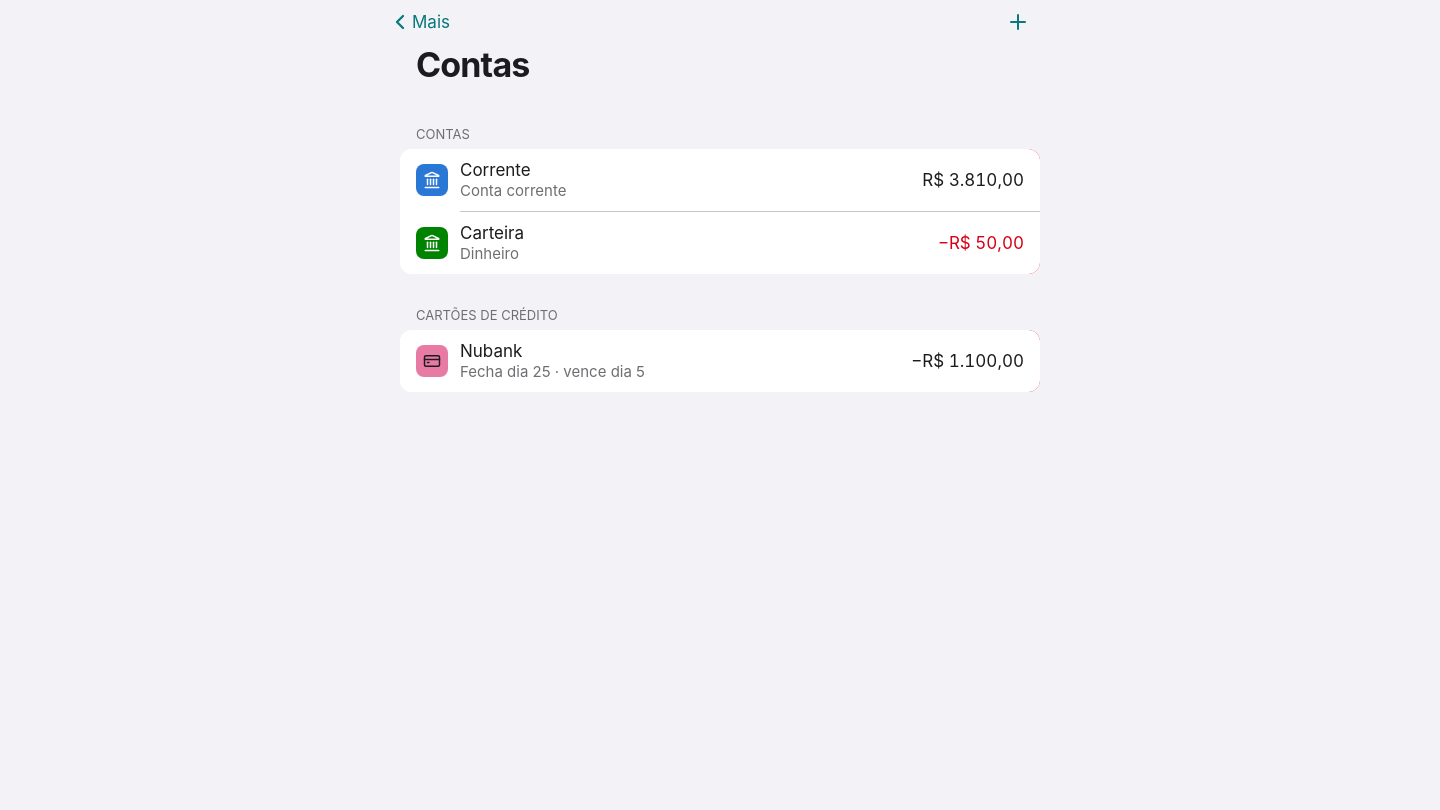
Test: TelaContas › editar abre preenchido; erro do servidor cai embaixo do campo
Click the button "Corrente Conta corrente R$ 3.810,00" at coordinates (432, 180), box x1=400 y1=149 x2=1040 y2=211
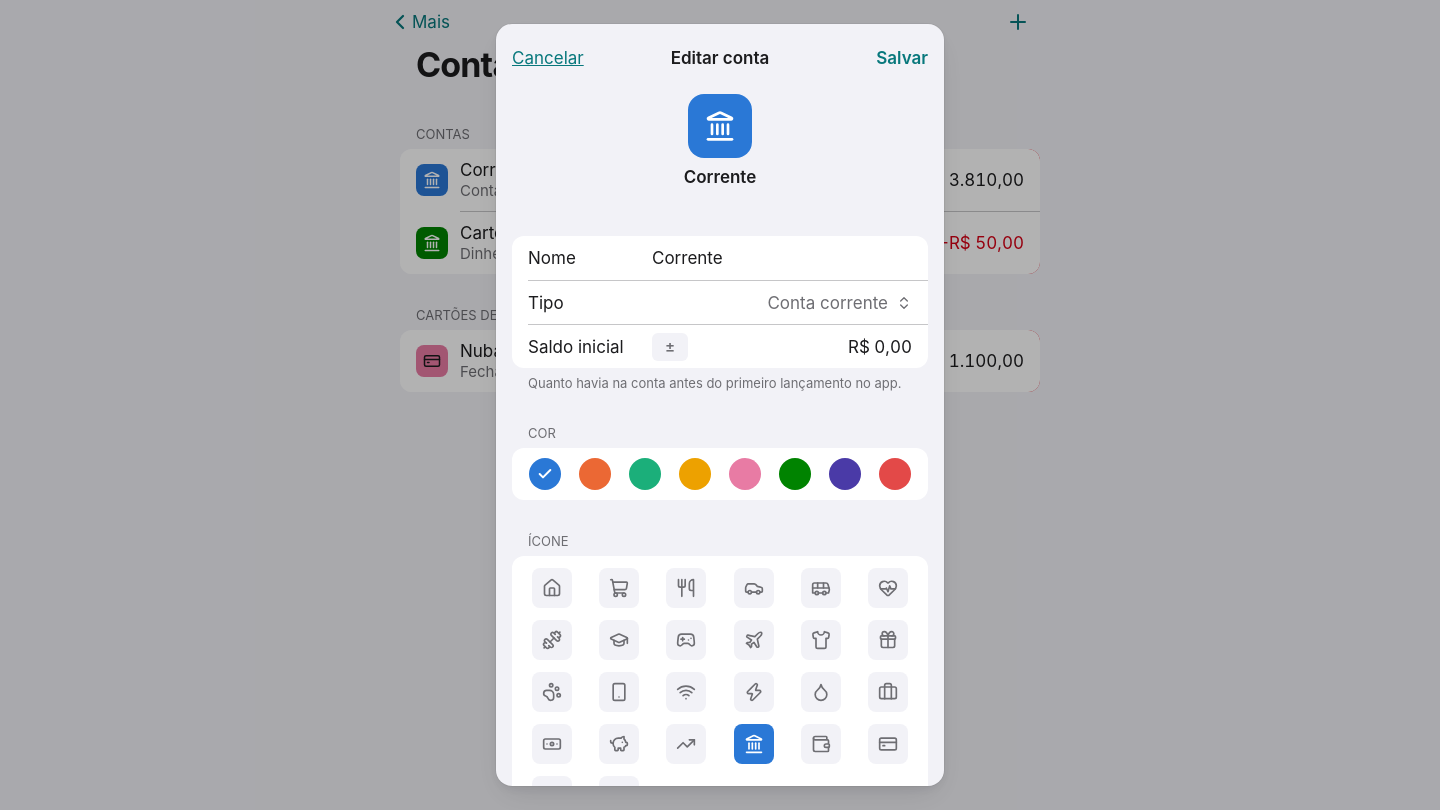
Now the field labelled "Nome" holds "Corrente", box x1=652 y1=237 x2=912 y2=279
Select "Cartão de crédito" in the dropdown labelled "Tipo" at coordinates (782, 302), box x1=652 y1=282 x2=912 y2=324
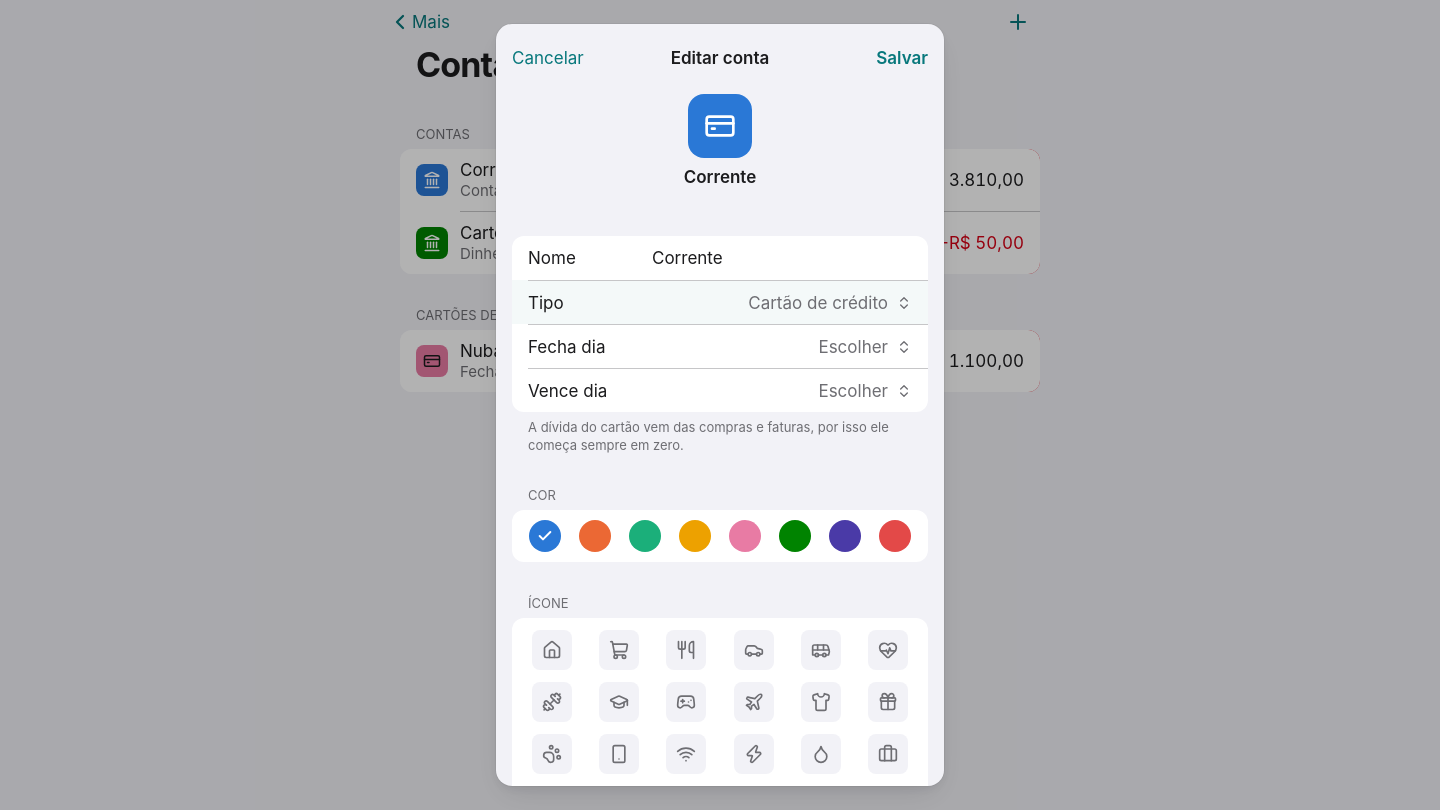
Select "25" in the dropdown labelled "Fecha dia" at coordinates (782, 346), box x1=652 y1=326 x2=912 y2=368
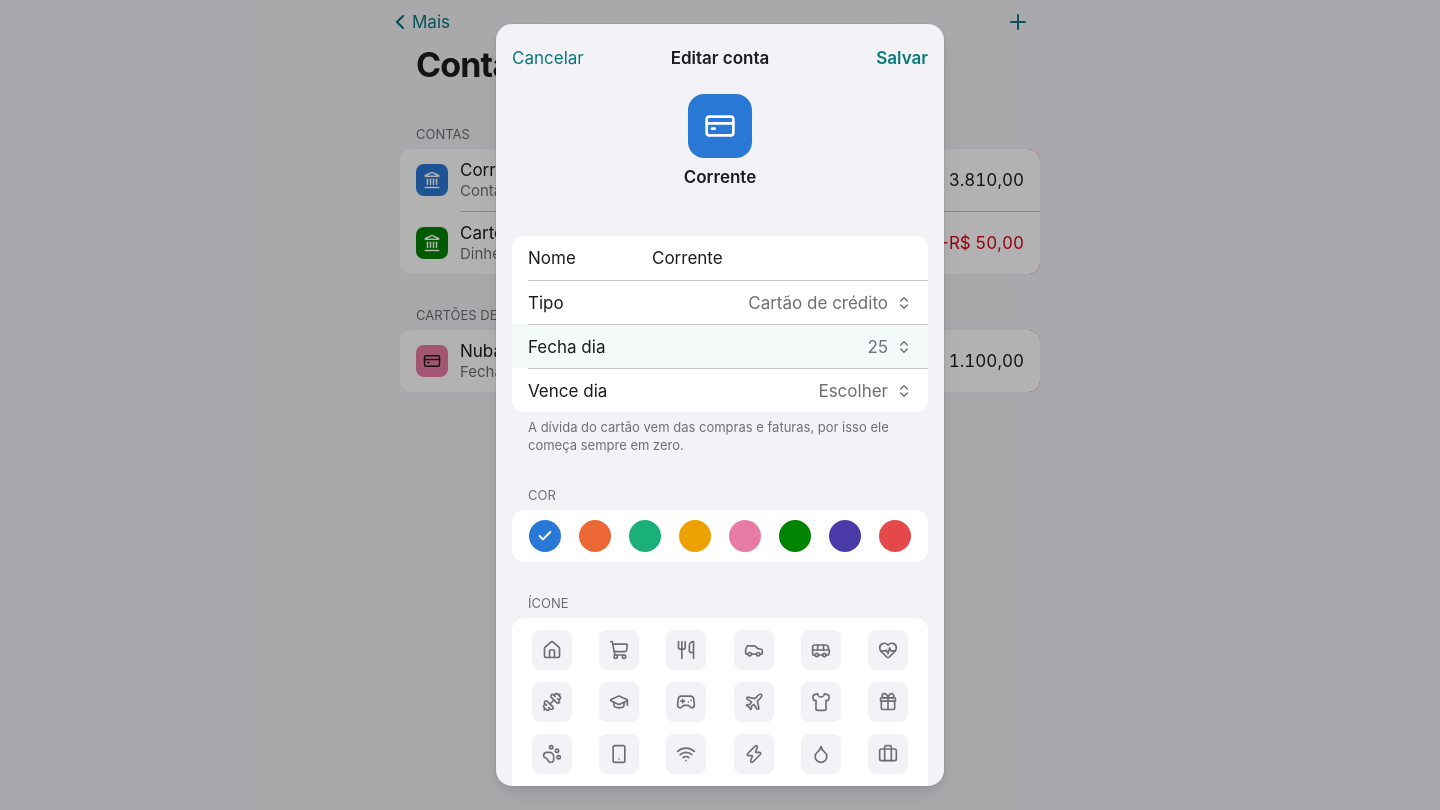
Select "5" in the dropdown labelled "Vence dia" at coordinates (782, 390), box x1=652 y1=370 x2=912 y2=412
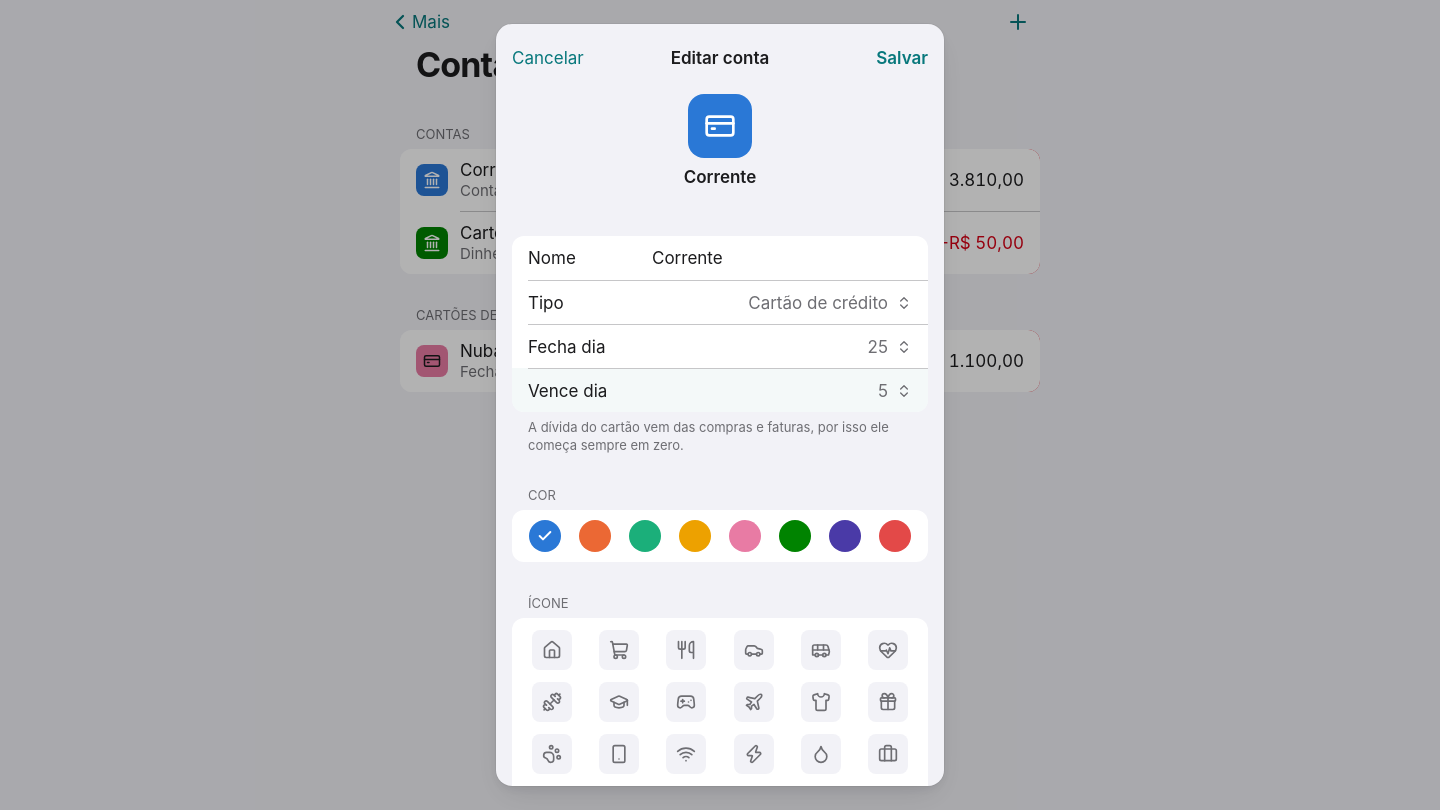
Click the button "Salvar" at coordinates (902, 58), box x1=876 y1=36 x2=928 y2=80
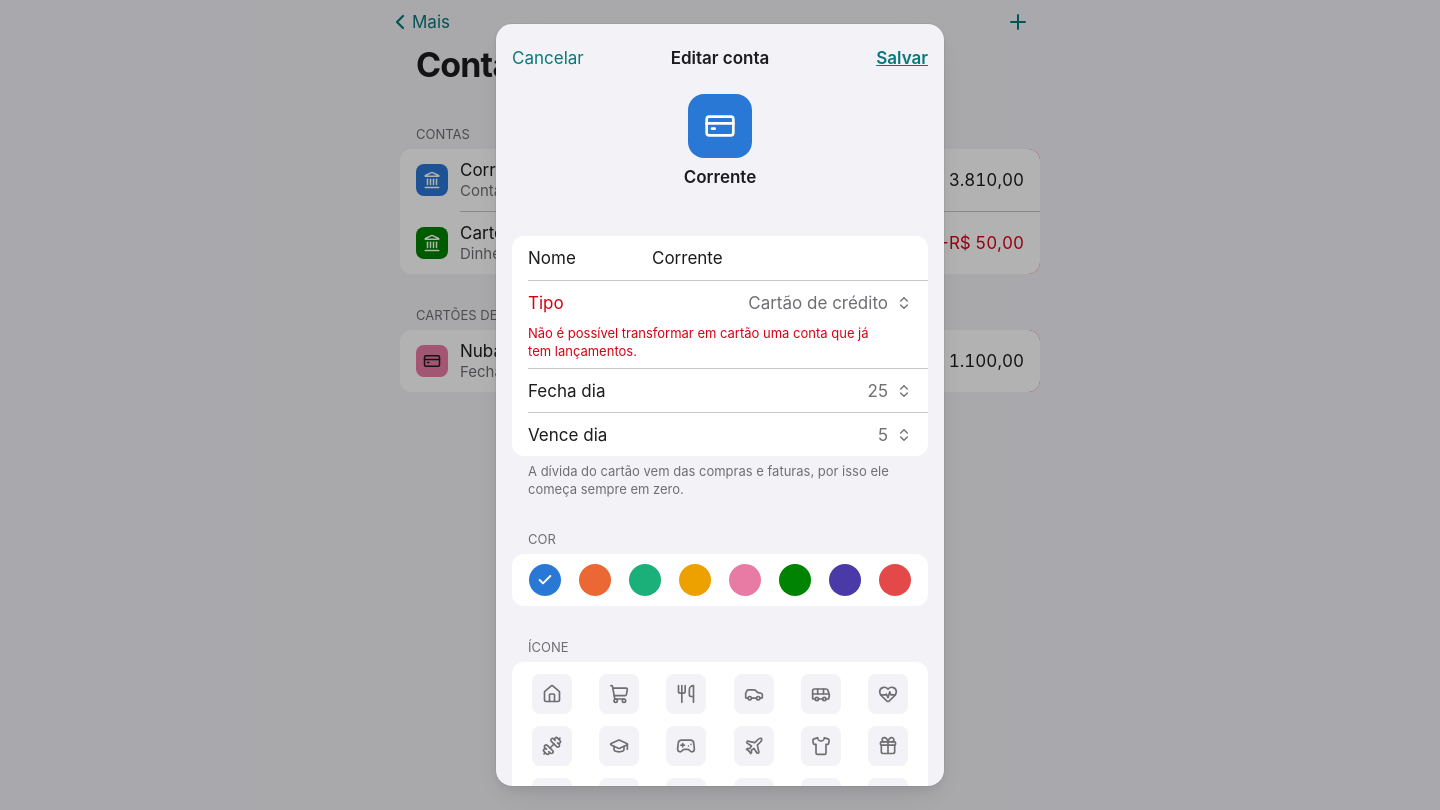
Now the text "já tem lançamentos" is shown, box x1=528 y1=325 x2=869 y2=359
